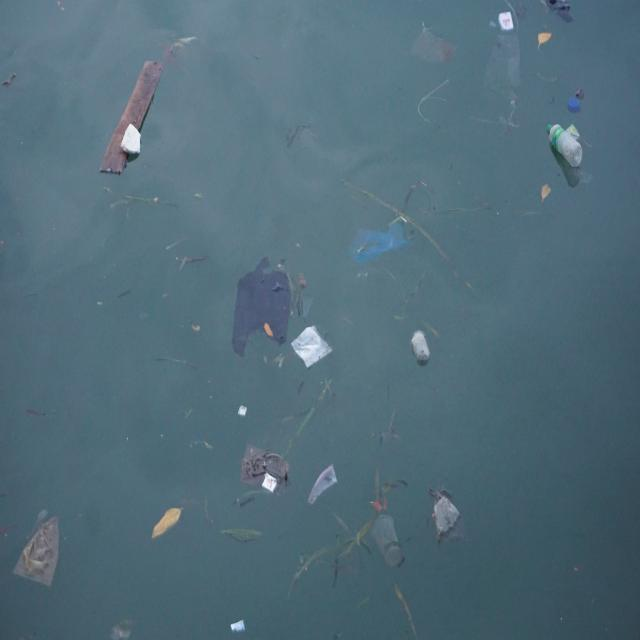Botol Plastik: (542, 110, 586, 175)
Bungkus Makanan: (287, 319, 333, 375)
Bungkus Minuman: (372, 508, 406, 574), (408, 321, 433, 369)
Kantong Plastik: (232, 248, 291, 364), (343, 217, 414, 271), (15, 511, 63, 589), (429, 485, 469, 553)
